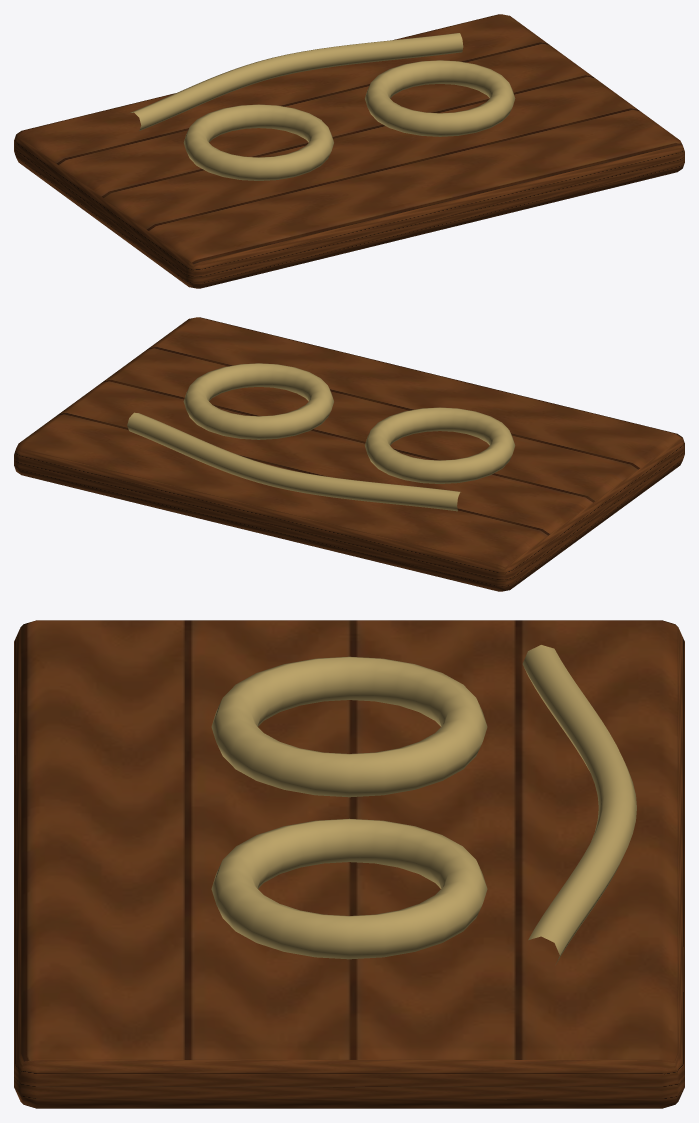
Rendered from undercity-sewers-and-thieves-den-jewellery-tray-4d95df3b__27253.glb.
3 views of the same model, one above another, from view 1: azimuth 30°, elevation 25°; view 2: azimuth 150°, elevation 25°; view 3: azimuth 270°, elevation 25° (orthographic). The views are drawn at different scales.
Parts seen in each view (by area): view 1: jewellery-tray; view 2: jewellery-tray; view 3: jewellery-tray.
Part boxes in pixels (left/top/right/bottom): jewellery-tray: left=14, top=14, right=684, bottom=288; jewellery-tray: left=14, top=317, right=684, bottom=591; jewellery-tray: left=14, top=620, right=684, bottom=1108.
Bounding box in the file's own units: 0.55 × 0.062 × 0.35.
2 materials, 1 textured.
